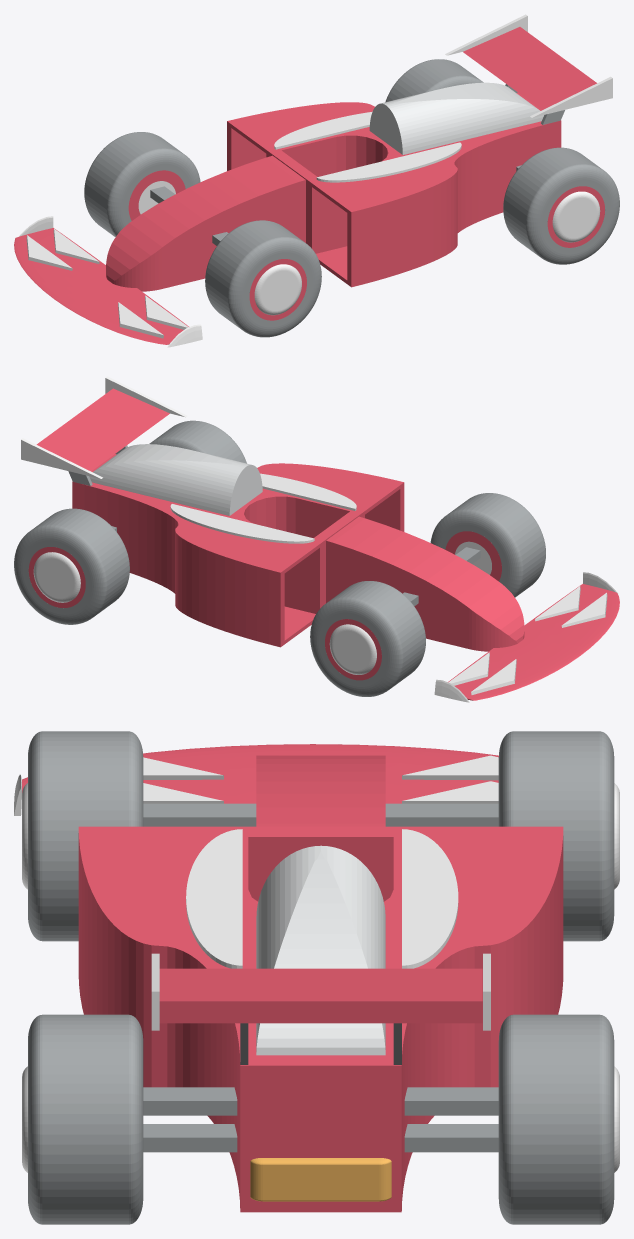
File: car.gltf
3 views of the same model, one above another, from view 1: azimuth 30°, elevation 25°; view 2: azimuth 150°, elevation 25°; view 3: azimuth 270°, elevation 25° (orthographic). The views are drawn at different scales.
Visible parts, largest first — view 1: group_0_15277357, group_0_6383466, group_0_16448250, group_0_14541540; view 2: group_0_15277357, group_0_6383466, group_0_16448250, group_0_14541540; view 3: group_0_15277357, group_0_6383466, group_0_16448250, group_0_14541540, group_0_16089887.
Part boxes in pixels (x1=…): group_0_15277357: x1=14, y1=27, x2=604, y2=344; group_0_6383466: x1=84, y1=59, x2=619, y2=337; group_0_16448250: x1=19, y1=14, x2=612, y2=347; group_0_14541540: x1=369, y1=82, x2=543, y2=154; group_0_15277357: x1=28, y1=388, x2=619, y2=700; group_0_6383466: x1=14, y1=420, x2=545, y2=696; group_0_16448250: x1=21, y1=376, x2=617, y2=702; group_0_14541540: x1=89, y1=444, x2=262, y2=515; group_0_15277357: x1=22, y1=744, x2=563, y2=1212; group_0_6383466: x1=28, y1=731, x2=614, y2=1224; group_0_16448250: x1=14, y1=755, x2=619, y2=1172; group_0_14541540: x1=256, y1=845, x2=385, y2=1055; group_0_16089887: x1=250, y1=1158, x2=391, y2=1201.
Size of the model in its own units: 144 by 39.33 by 75.
